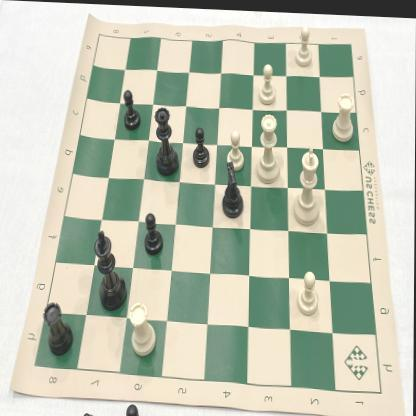black-king: (95, 227, 127, 311)
black-knight: (219, 158, 246, 218)
black-pawn: (143, 210, 165, 253), (122, 87, 143, 131), (193, 125, 212, 168)
black-queen: (153, 102, 180, 176)
black-rook: (43, 299, 72, 357)
white-king: (293, 142, 322, 226)
white-pawn: (297, 265, 321, 316), (257, 59, 279, 105), (294, 23, 313, 67), (226, 127, 245, 170)
white-queen: (253, 110, 282, 182)
white-rook: (129, 298, 159, 357), (331, 87, 357, 141)
